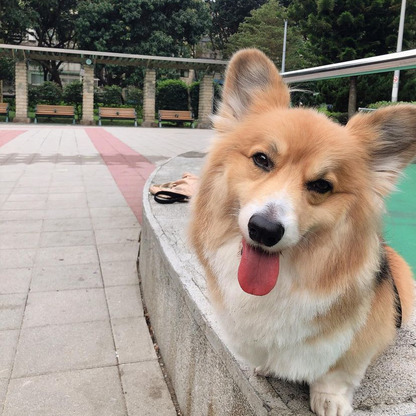Corgi: (200, 39, 405, 410)
